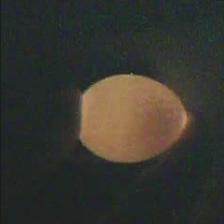infertile: (74, 72, 188, 164)
